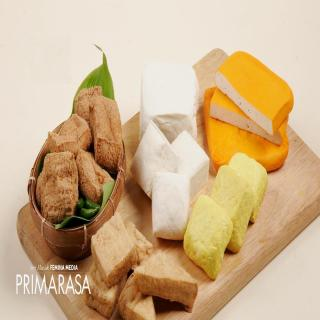Tahu: (125, 57, 214, 245)
